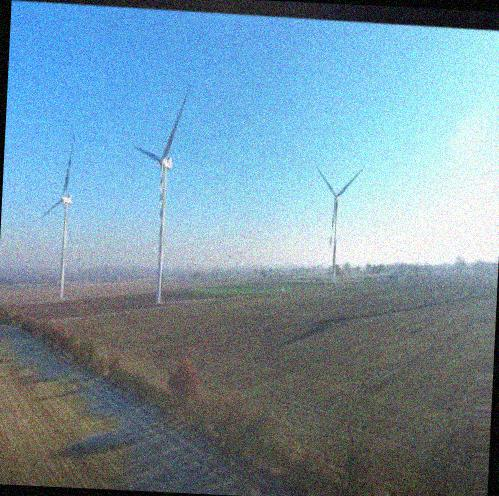wind turbine: (134, 86, 189, 301), (35, 136, 76, 299), (313, 162, 365, 272)
